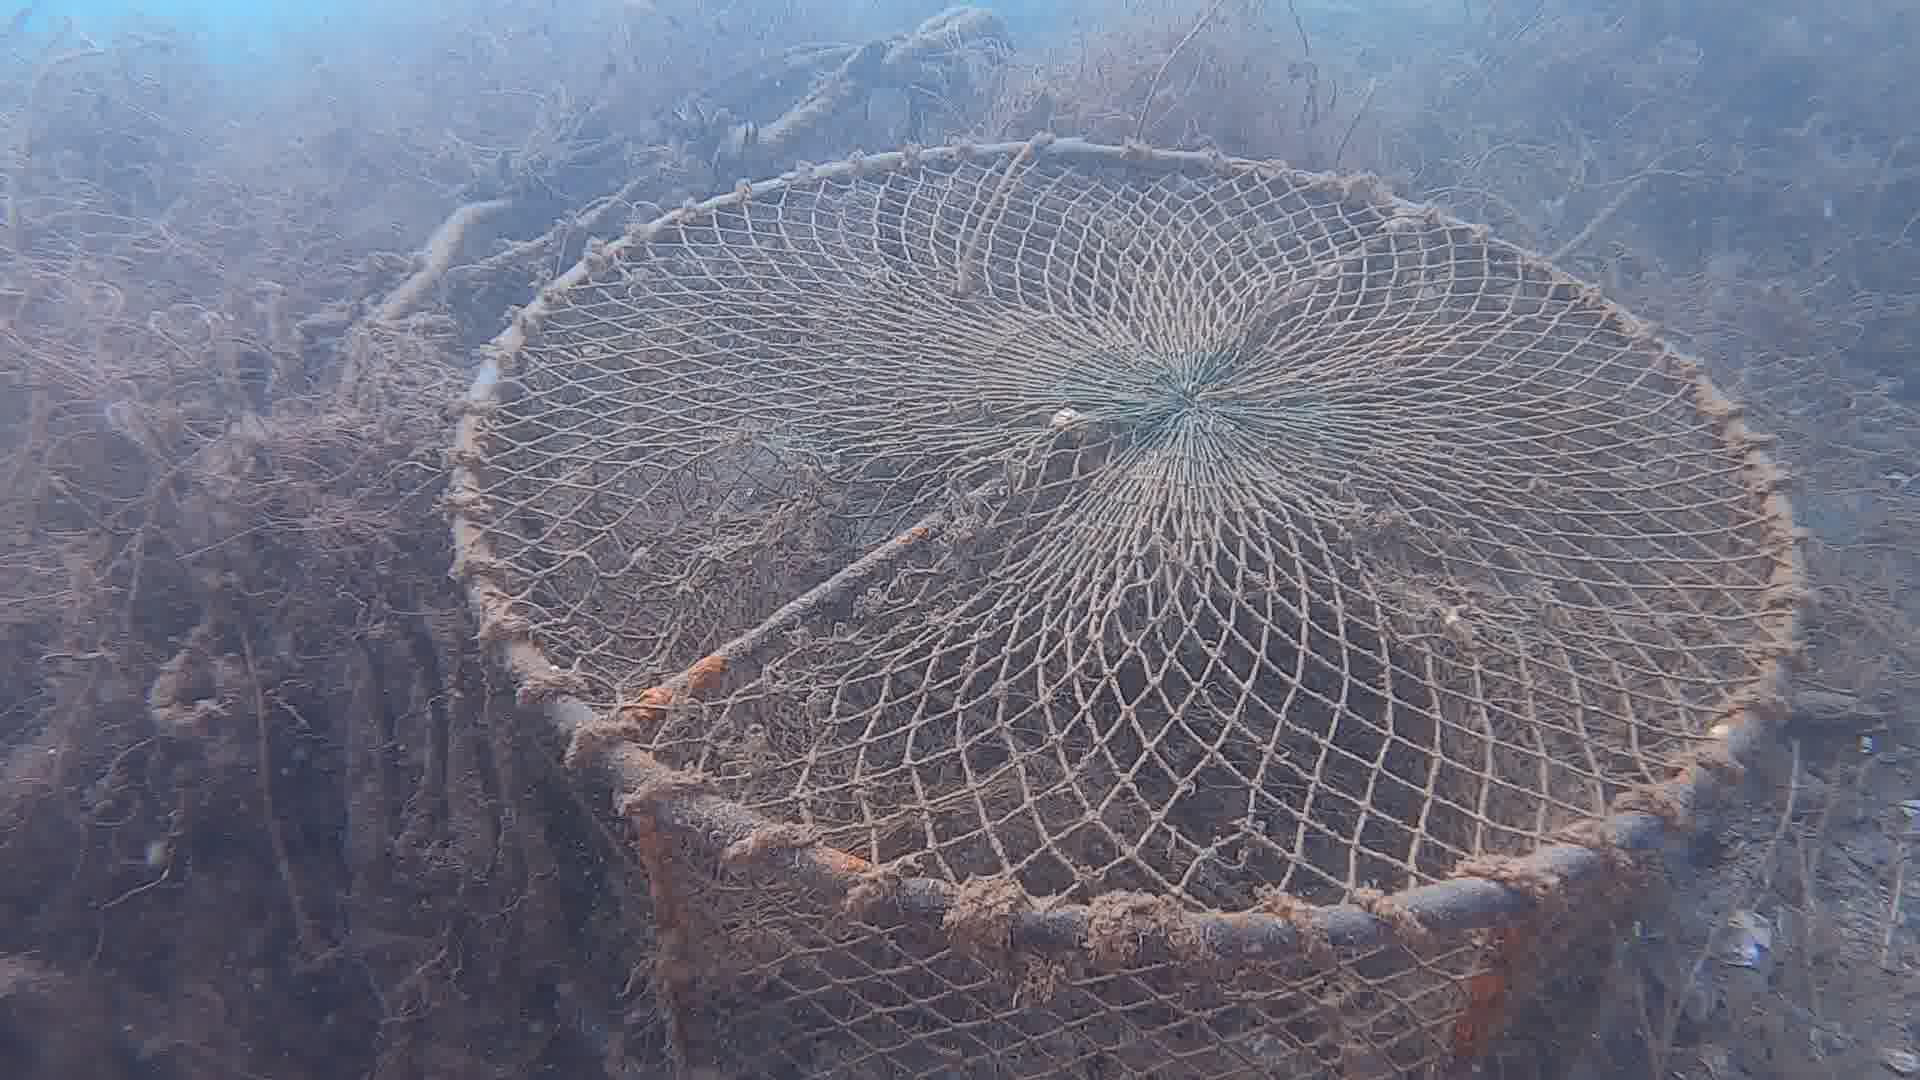circular fish trap: (447, 136, 1804, 1080)
